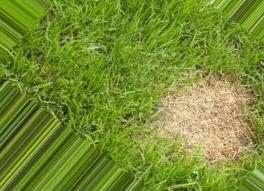patch: (174, 93, 243, 133), (190, 125, 243, 149)
